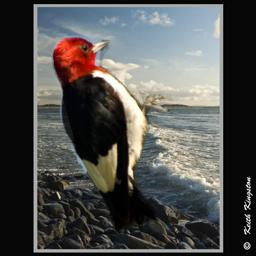Woodpecker: (50, 35, 174, 239)
